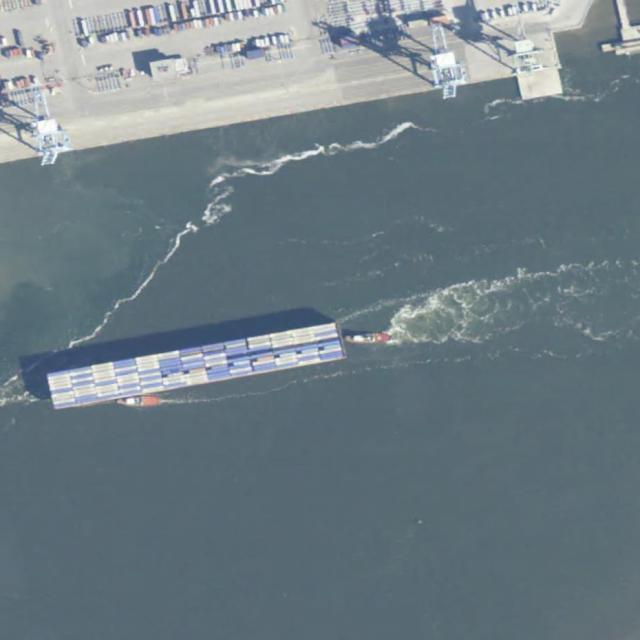Container Ship: (43, 320, 348, 411)
